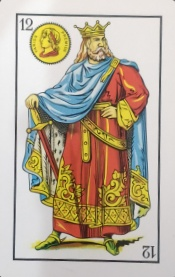12o: (14, 11, 164, 34)
